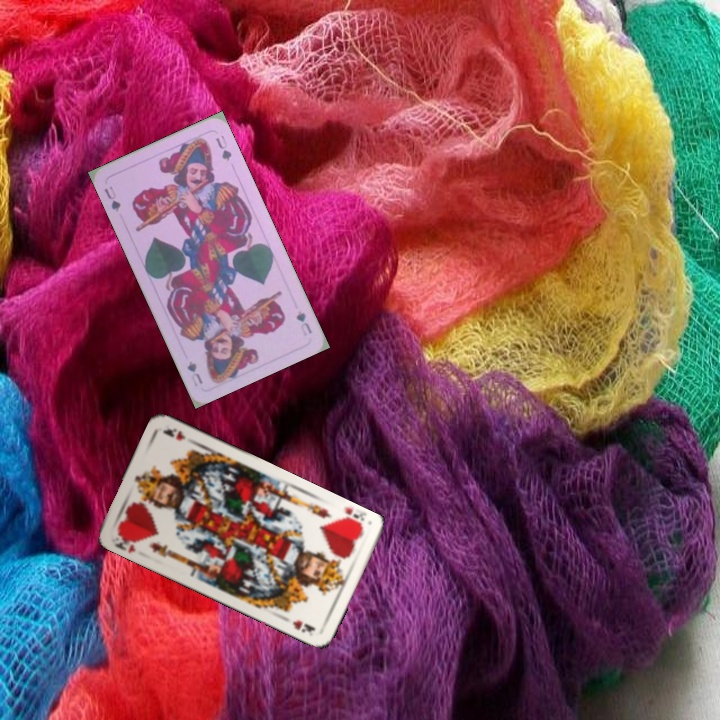GU: (100, 182, 123, 215), (292, 307, 315, 339)
HK: (110, 528, 142, 555), (333, 509, 368, 532)
